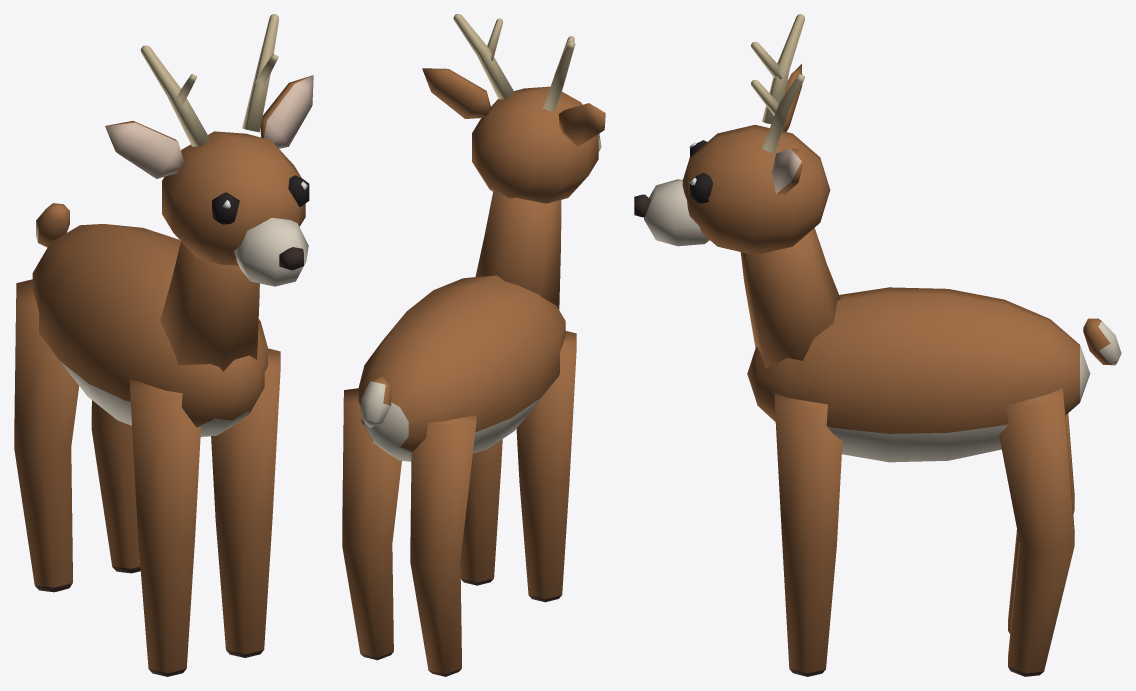
Rendered from deer.glb.
The picture shows the model from 3 angles, left to right: view 1: azimuth 30°, elevation 25°; view 2: azimuth 150°, elevation 25°; view 3: azimuth 270°, elevation 25°; orthographic projection. The views are drawn at different scales.
Visible parts, largest first — view 1: head, body, leg_fr, leg_br, leg_fl, leg_bl, head_body_nh, tail; view 2: body, head, leg_br, leg_bl, leg_fr, leg_fl, tail; view 3: body, head, leg_bl, leg_fl, tail, leg_br.
Part boxes in pixels (box(x1,y1,x2,y2)): head: box(105, 14, 313, 371); body: box(32, 224, 267, 436); leg_fr: box(130, 379, 200, 676); leg_br: box(14, 279, 79, 592); leg_fl: box(211, 348, 280, 657); leg_bl: box(91, 400, 140, 573); head_body_nh: box(212, 175, 309, 224); tail: box(36, 203, 69, 247); body: box(358, 275, 565, 461); head: box(422, 14, 605, 309); leg_br: box(410, 415, 476, 676); leg_bl: box(342, 388, 401, 660); leg_fr: box(516, 331, 576, 602); leg_fl: box(460, 439, 502, 585); tail: box(361, 376, 391, 427); body: box(747, 287, 1090, 462); head: box(634, 14, 840, 368); leg_bl: box(999, 388, 1074, 676); leg_fl: box(774, 393, 842, 676); tail: box(1083, 318, 1121, 365); leg_br: box(1008, 413, 1074, 633).
Bounding box in the file's own units: 0.5932 × 1.73 × 1.25.
